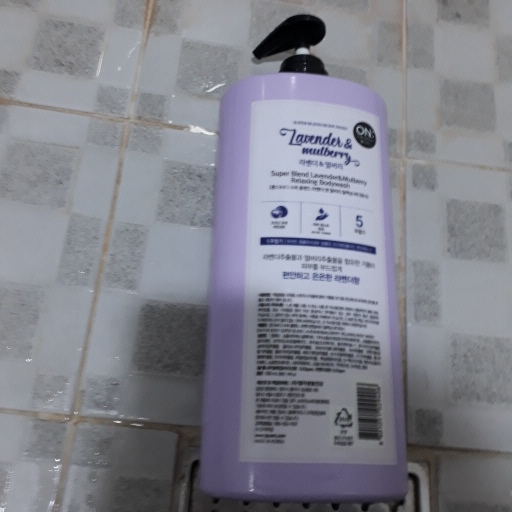Plastic_3: (208, 15, 405, 504)
